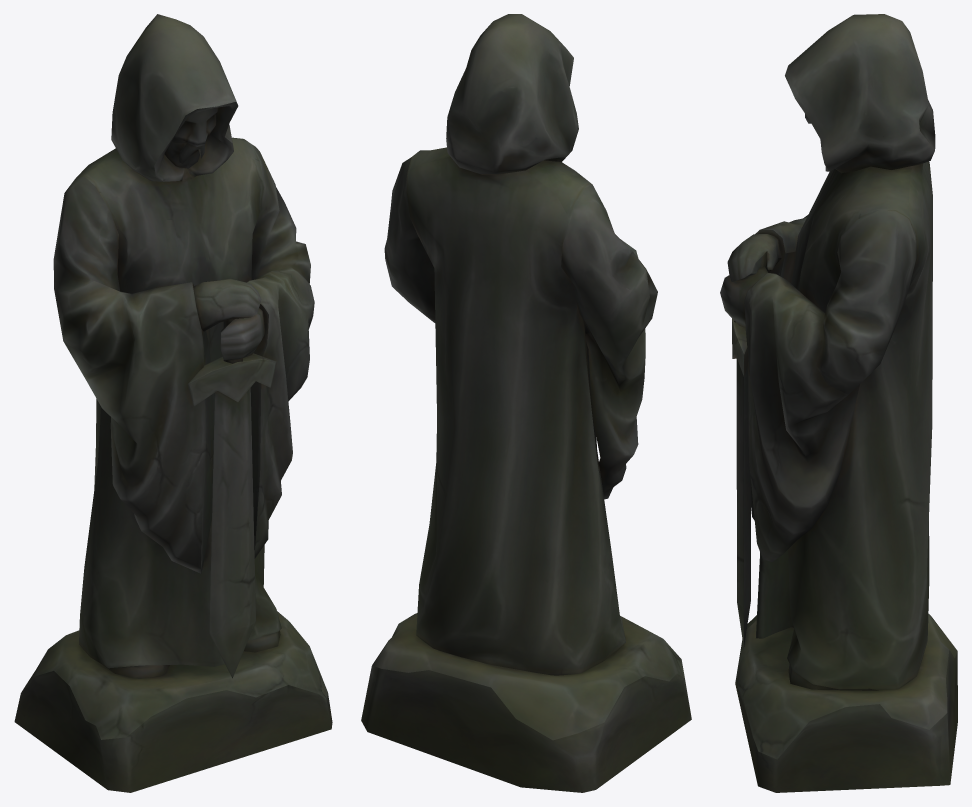
3 views of the same model, side by side, from view 1: azimuth 30°, elevation 25°; view 2: azimuth 150°, elevation 25°; view 3: azimuth 270°, elevation 25° (orthographic). The views are drawn at different scales.
Visible parts, largest first — view 1: models_monument_01-0-model; view 2: models_monument_01-0-model; view 3: models_monument_01-0-model.
Part boxes in pixels (<box>): models_monument_01-0-model: <box>14,14,332,792</box>; models_monument_01-0-model: <box>361,14,691,792</box>; models_monument_01-0-model: <box>720,14,957,792</box>.
Size of the model in its own units: 8.03 by 21.76 by 6.42.
1 material, 1 textured.
